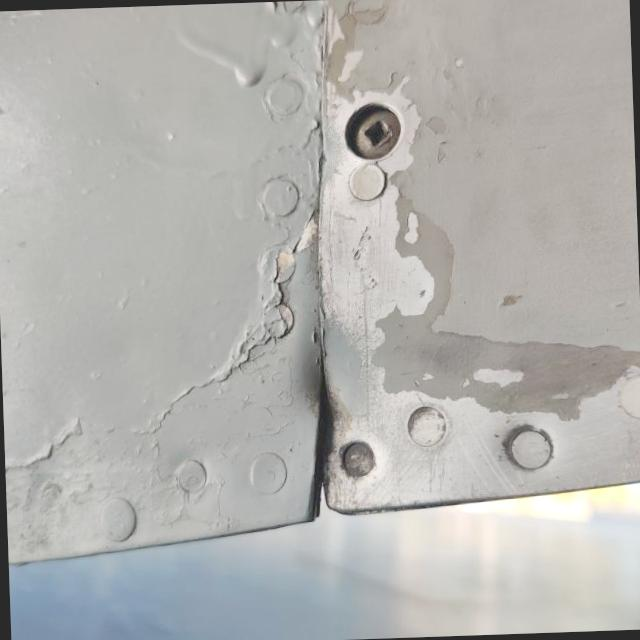paint-off: (268, 66, 461, 367)
